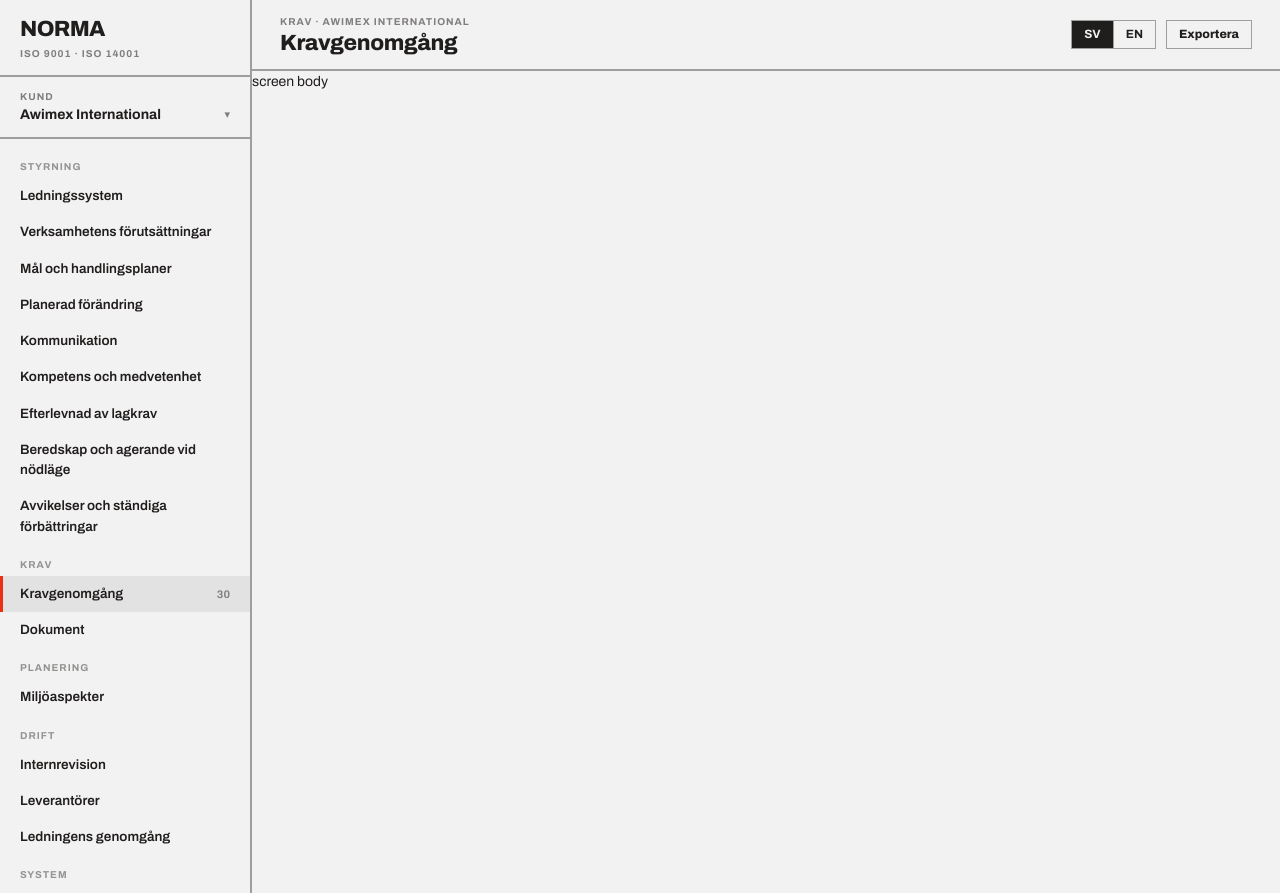
it: the app shell › switches every string when the language changes
Check: the heading reads "Kravgenomgång", box [280,31,457,55]
Click the button "EN". click: coordinates (1134, 35)
box: [1113,21,1155,48]
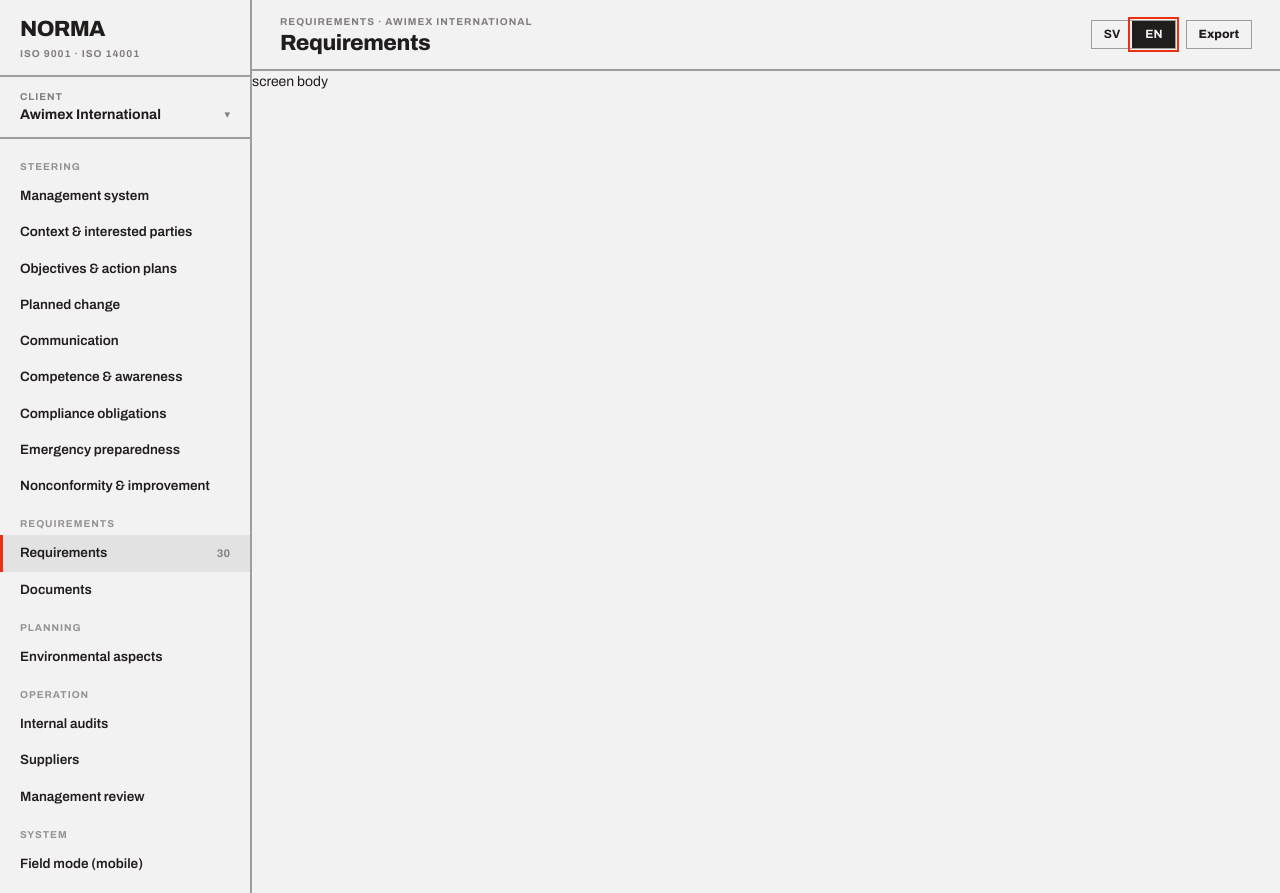
Check: the button "Export" is shown, box [1186,20,1252,49]
Check: the heading reads "Requirements", box [280,31,430,55]
Check: the link "Environmental aspects" is shown, box [20,649,162,664]
